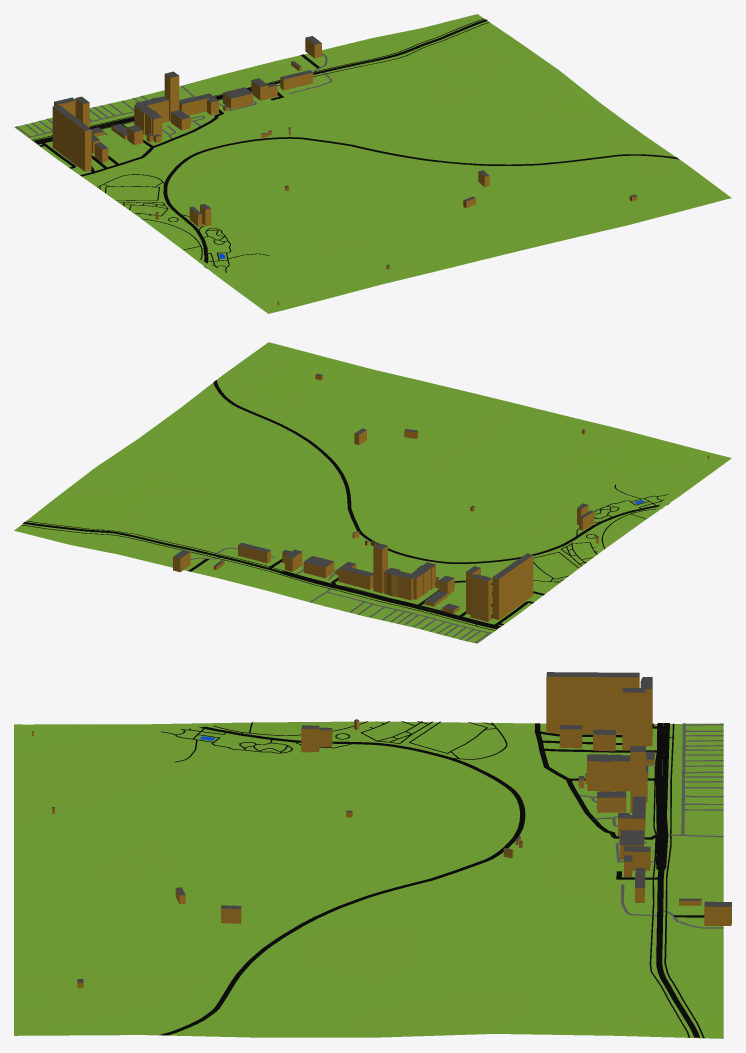
The model's file is tile_08_02.glb.
The picture shows the model from 3 angles, top to bottom: view 1: azimuth 30°, elevation 25°; view 2: azimuth 150°, elevation 25°; view 3: azimuth 270°, elevation 25°; orthographic projection. The views are drawn at different scales.
Parts seen in each view (by area): view 1: Terrain_08_02, Ub_small.osm_buildings_08_02, Ub_small.osm_roads_unclassified_08_02, Ub_small.osm_paths_footway_08_02, Ub_small.osm_roads_service_08_02, Ub_small.osm_roads_secondary_08_02, Ub_small.osm_roads_residential_08_02; view 2: Terrain_08_02, Ub_small.osm_buildings_08_02, Ub_small.osm_roads_secondary_08_02, Ub_small.osm_paths_footway_08_02, Ub_small.osm_roads_unclassified_08_02, Ub_small.osm_roads_service_08_02; view 3: Terrain_08_02, Ub_small.osm_buildings_08_02, Ub_small.osm_roads_secondary_08_02, Ub_small.osm_roads_unclassified_08_02, Ub_small.osm_paths_footway_08_02, Ub_small.osm_roads_service_08_02, Ub_small.osm_roads_residential_08_02.
Boxes of the visible parts, x1=… form: Terrain_08_02: x1=14, y1=14, x2=731, y2=313; Ub_small.osm_buildings_08_02: x1=52, y1=36, x2=637, y2=305; Ub_small.osm_roads_unclassified_08_02: x1=163, y1=137, x2=679, y2=268; Ub_small.osm_paths_footway_08_02: x1=32, y1=22, x2=489, y2=273; Ub_small.osm_roads_service_08_02: x1=15, y1=53, x2=332, y2=138; Ub_small.osm_roads_secondary_08_02: x1=33, y1=19, x2=487, y2=143; Ub_small.osm_roads_residential_08_02: x1=39, y1=54, x2=319, y2=176; Terrain_08_02: x1=14, y1=342, x2=731, y2=643; Ub_small.osm_buildings_08_02: x1=173, y1=373, x2=709, y2=621; Ub_small.osm_roads_secondary_08_02: x1=23, y1=522, x2=500, y2=629; Ub_small.osm_paths_footway_08_02: x1=26, y1=484, x2=676, y2=630; Ub_small.osm_roads_unclassified_08_02: x1=213, y1=380, x2=669, y2=563; Ub_small.osm_roads_service_08_02: x1=172, y1=547, x2=491, y2=643; Terrain_08_02: x1=14, y1=721, x2=723, y2=1038; Ub_small.osm_buildings_08_02: x1=32, y1=672, x2=731, y2=988; Ub_small.osm_roads_secondary_08_02: x1=655, y1=723, x2=700, y2=1037; Ub_small.osm_roads_unclassified_08_02: x1=159, y1=726, x2=525, y2=1035; Ub_small.osm_paths_footway_08_02: x1=161, y1=721, x2=689, y2=1037; Ub_small.osm_roads_service_08_02: x1=579, y1=723, x2=723, y2=928; Ub_small.osm_roads_residential_08_02: x1=534, y1=723, x2=704, y2=917.
Bounding box in the file's own units: 978 × 90.74 × 941.
